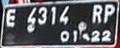clone-license-plate: (1, 0, 116, 47)
